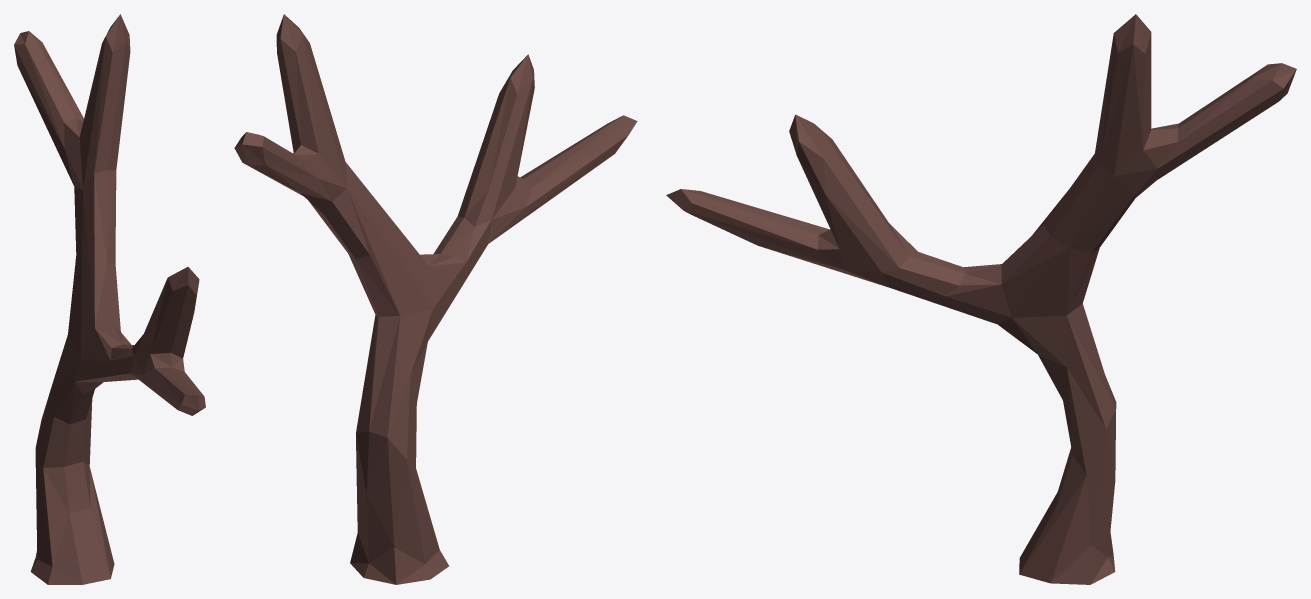
File: Willow_Dead_5.lod1.glb
3 renders of one model, left to right at view 1: azimuth 30°, elevation 25°; view 2: azimuth 150°, elevation 25°; view 3: azimuth 270°, elevation 25°, orthographic. The views are drawn at different scales.
Visible parts, largest first — view 1: Willow_Dead_5; view 2: Willow_Dead_5; view 3: Willow_Dead_5.
Boxes of the visible parts, x1,y1,x2,y2 form: Willow_Dead_5: (14, 14, 205, 584); Willow_Dead_5: (234, 14, 637, 584); Willow_Dead_5: (666, 14, 1296, 584).
Size of the model in its own units: 0.5695 by 2.03 by 1.95.
